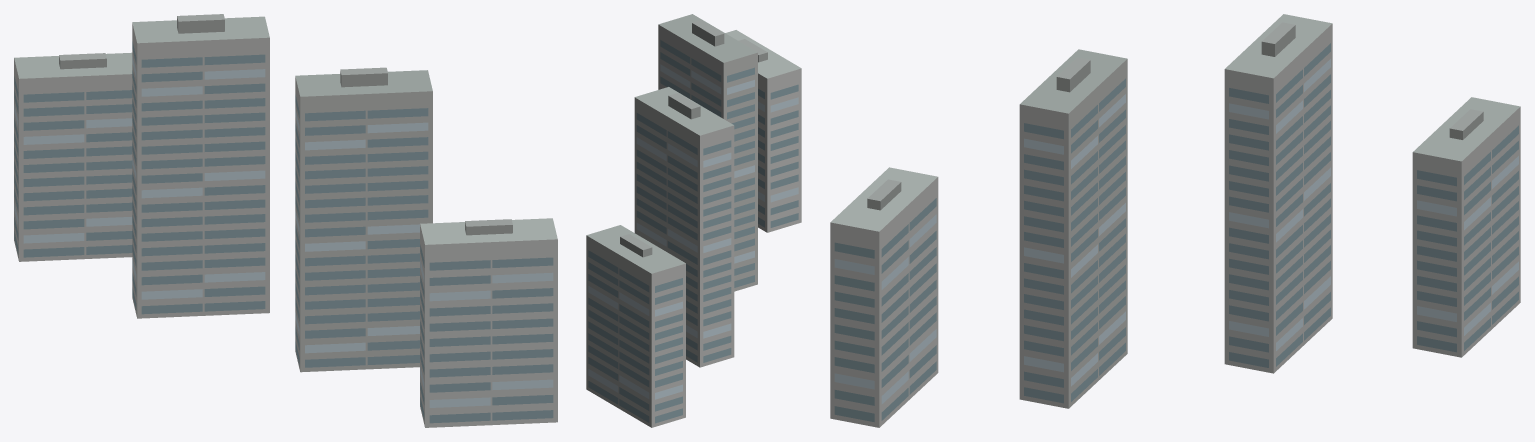
Rendered from apt-a15807001.glb.
3 renders of one model, left to right at view 1: azimuth 30°, elevation 25°; view 2: azimuth 150°, elevation 25°; view 3: azimuth 270°, elevation 25°, orthographic. The views are drawn at different scales.
Parts seen in each view (by area): view 1: apt-a15807001; view 2: apt-a15807001; view 3: apt-a15807001.
Boxes of the visible parts, box(x1,y1,x2,y2) form: apt-a15807001: box(14, 14, 557, 427); apt-a15807001: box(586, 14, 801, 427); apt-a15807001: box(830, 14, 1520, 427).
Size of the model in its own units: 53.43 by 57 by 116.
